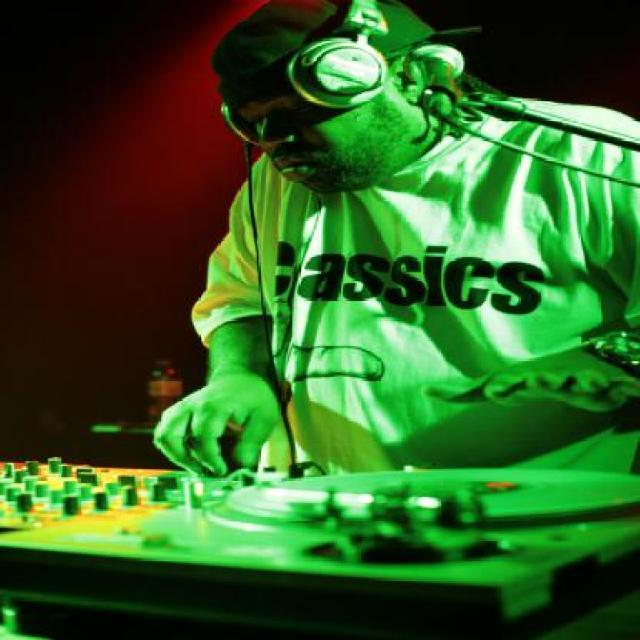earphone: (190, 5, 412, 137)
